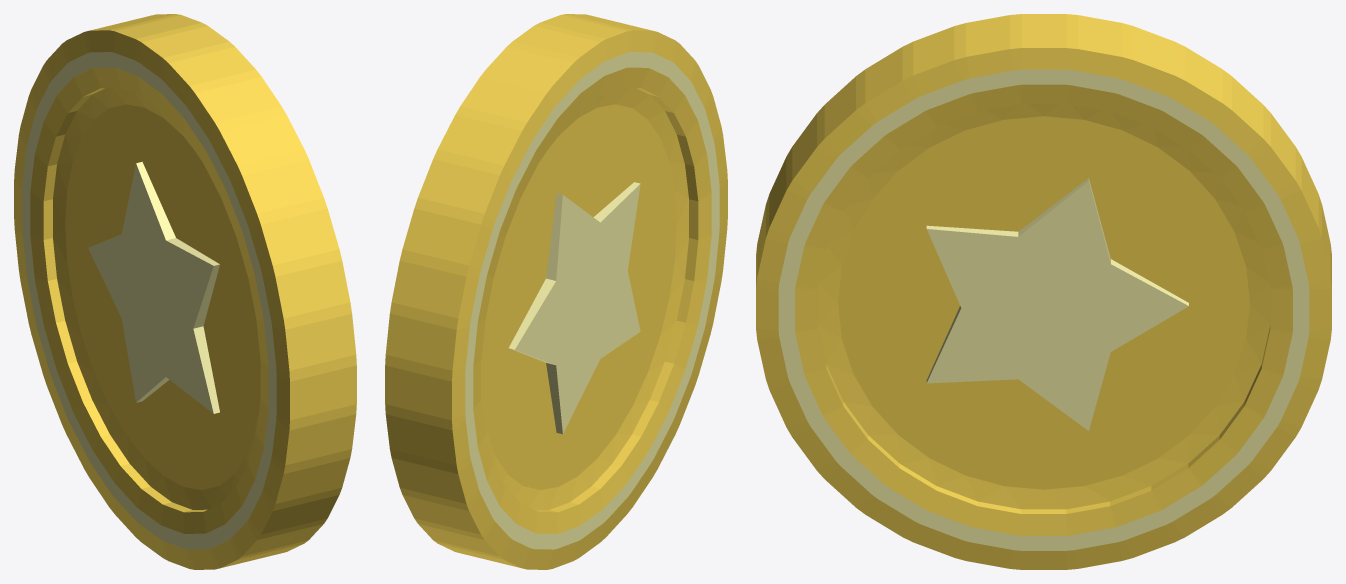
Rendered from piggy_coin 1-.fbx.
3 renders of one model, left to right at view 1: azimuth 30°, elevation 25°; view 2: azimuth 150°, elevation 25°; view 3: azimuth 270°, elevation 25°, orthographic. The views are drawn at different scales.
Parts seen in each view (by area): view 1: Piggy-Coin-1; view 2: Piggy-Coin-1; view 3: Piggy-Coin-1.
Part boxes in pixels (left/top/right/bottom): Piggy-Coin-1: left=14, top=14, right=356, bottom=569; Piggy-Coin-1: left=385, top=14, right=727, bottom=569; Piggy-Coin-1: left=756, top=14, right=1331, bottom=569.
Size of the model in its own units: 4.41 by 29.28 by 29.28.
